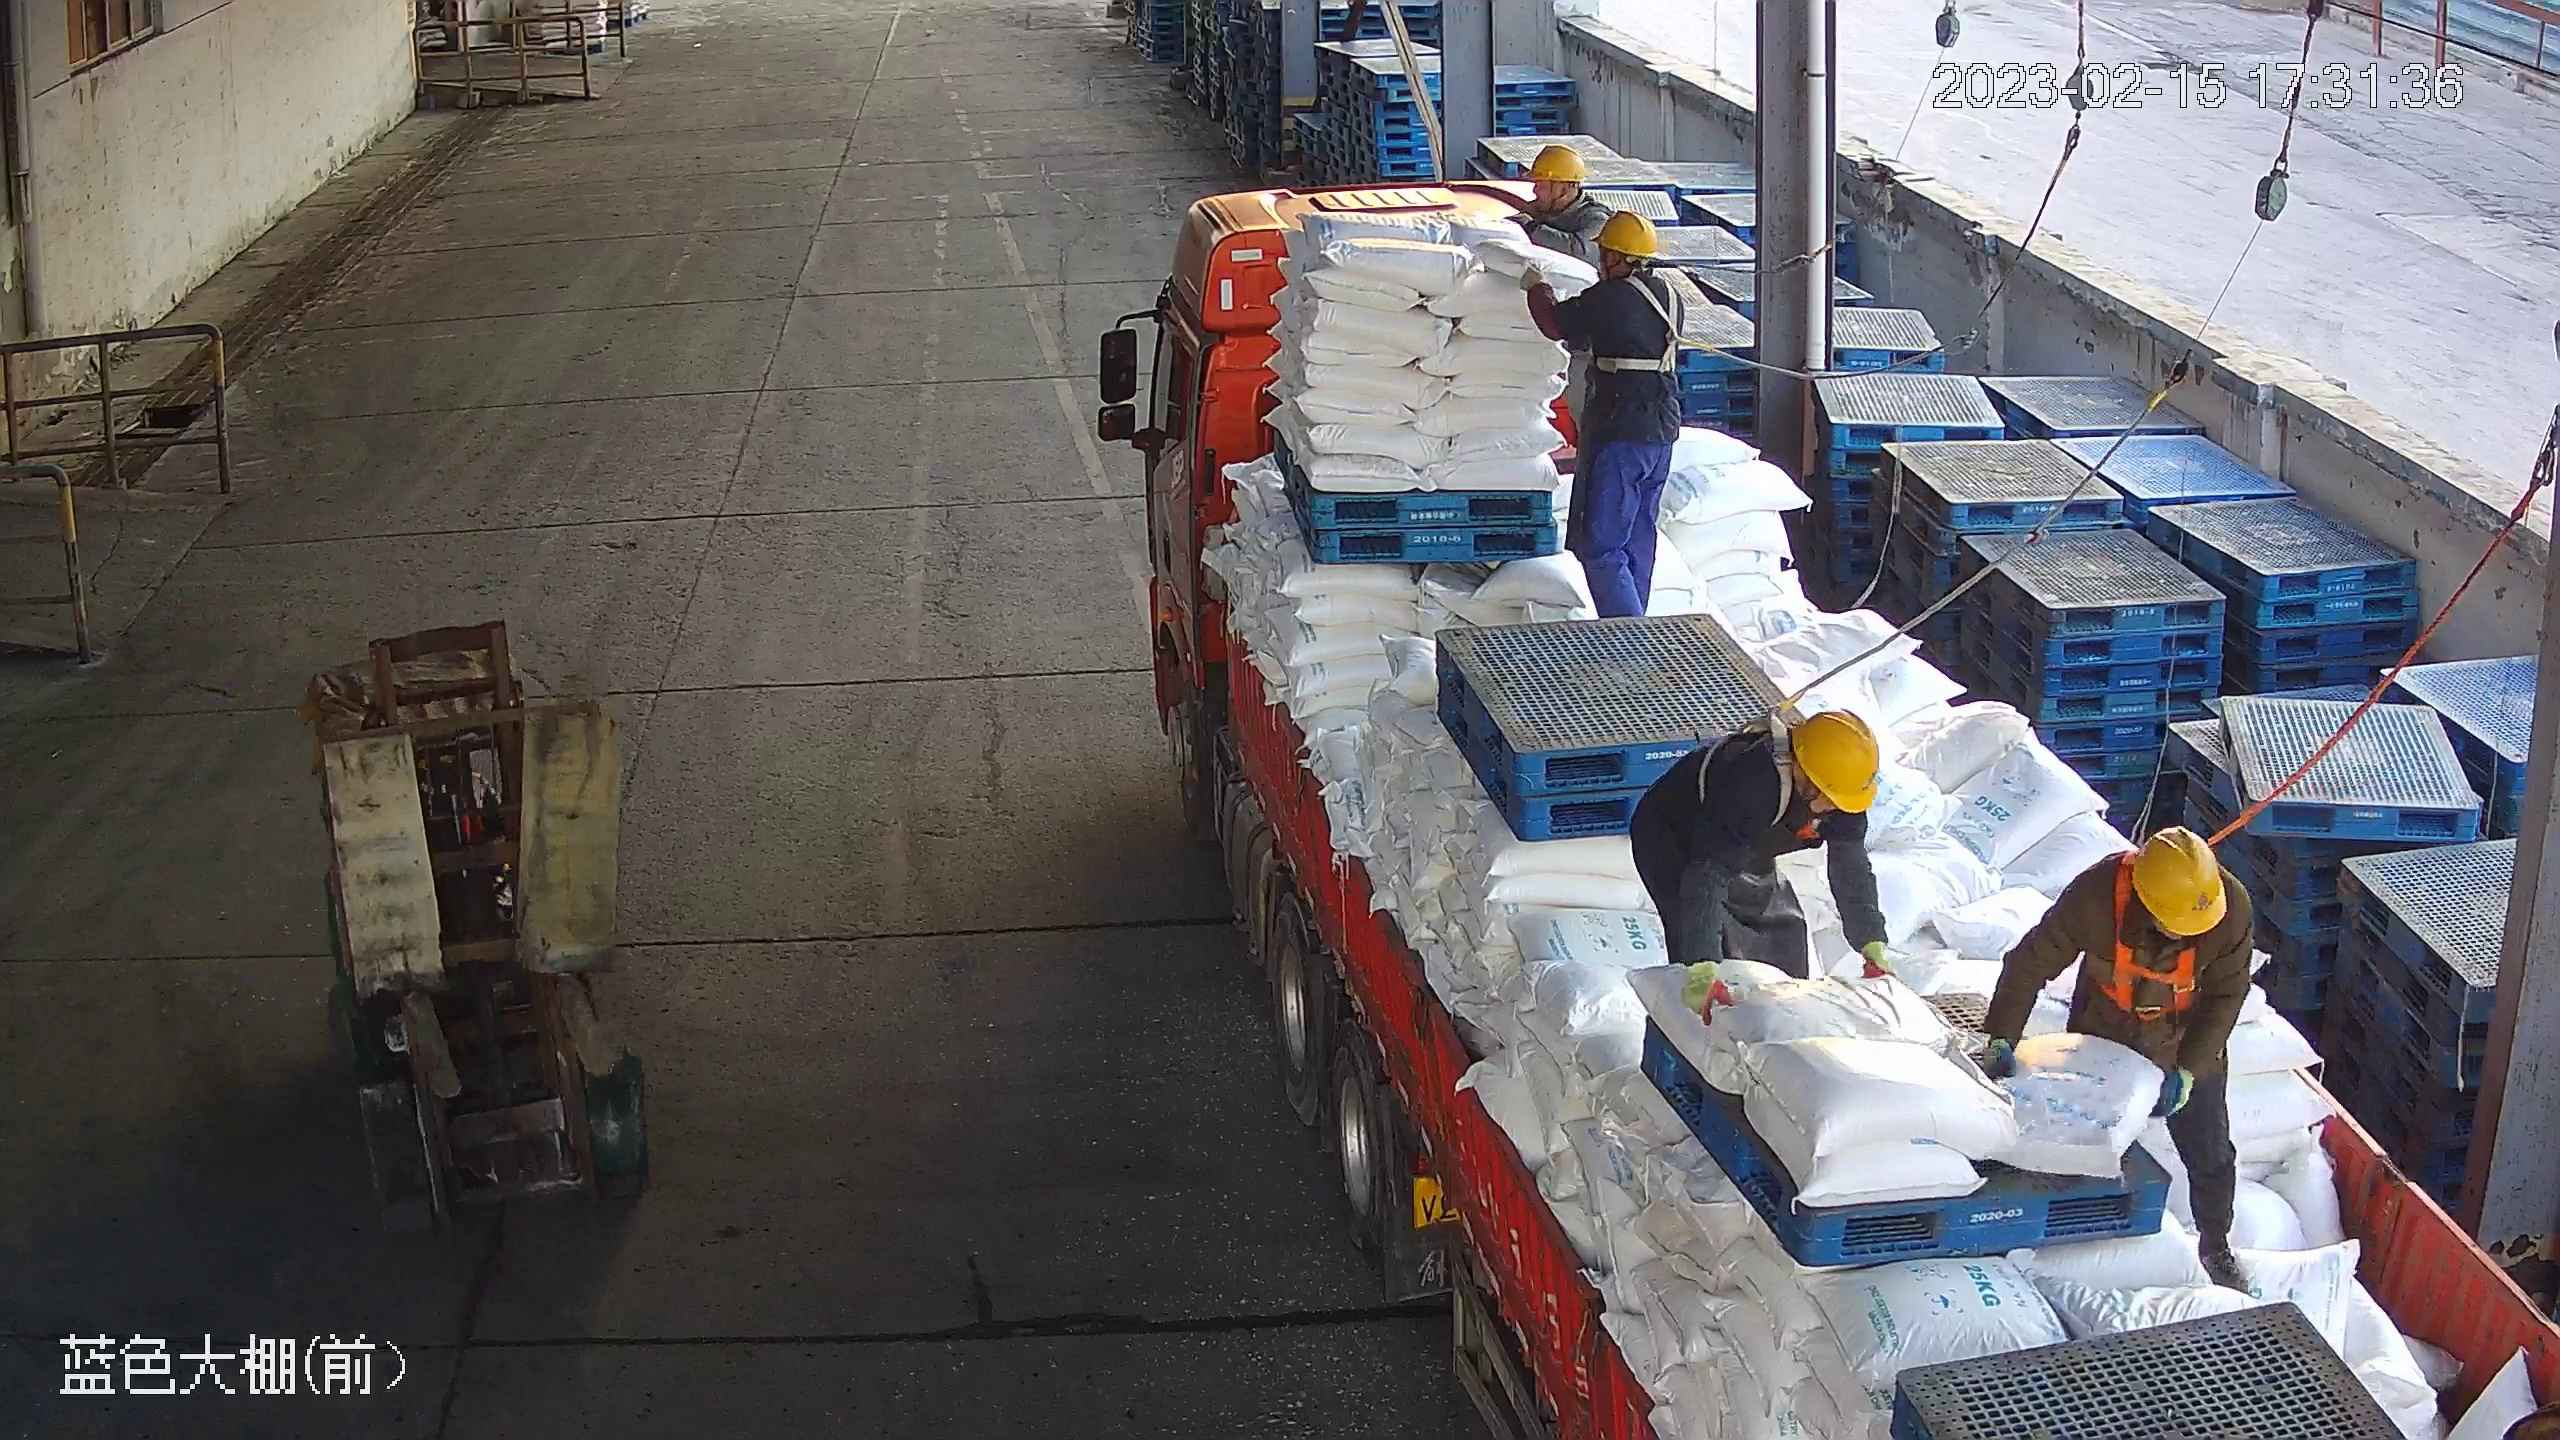belt: (2097, 824, 2211, 1026), (1690, 684, 1808, 827), (1583, 273, 1692, 381)
head: (2066, 824, 2254, 1011), (1703, 707, 1888, 880), (1573, 208, 1690, 366), (1517, 142, 1615, 258)
helmet: (2133, 822, 2231, 938), (1788, 709, 1883, 814), (1590, 205, 1661, 262), (1521, 143, 1591, 185)
people: (1976, 823, 2267, 1111), (1648, 708, 1889, 1014), (1522, 207, 1701, 619)
truck: (1112, 171, 2560, 1440)
